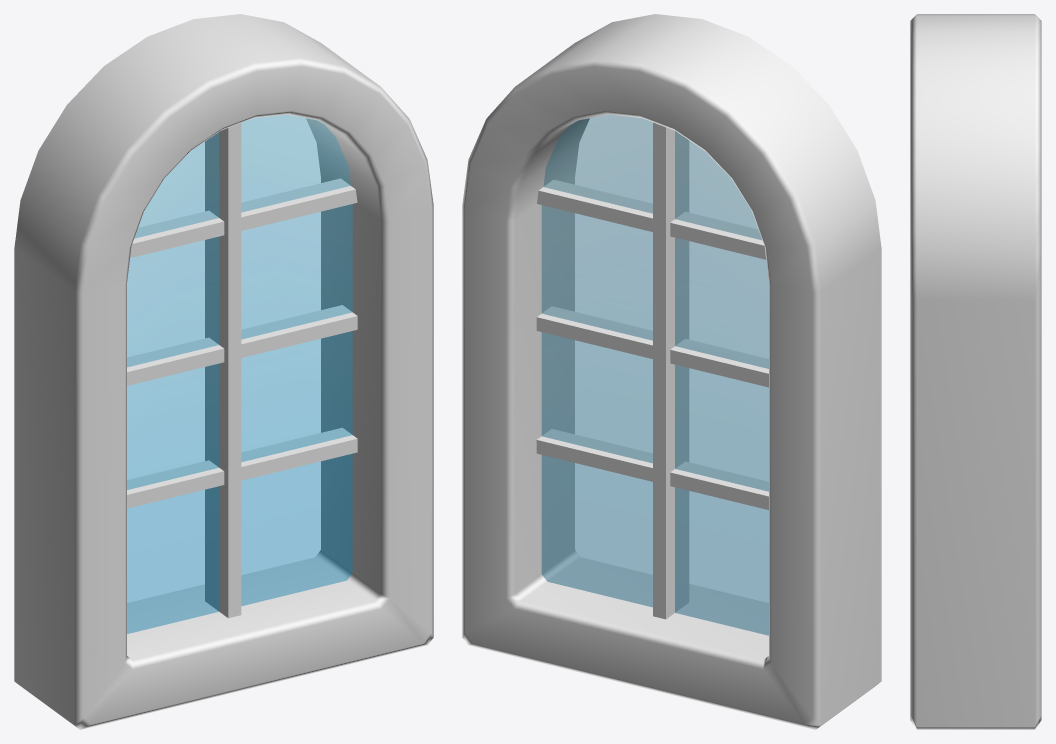
Rendered from Window_White_19.glb.
3 renders of one model, left to right at view 1: azimuth 30°, elevation 25°; view 2: azimuth 150°, elevation 25°; view 3: azimuth 270°, elevation 25°, orthographic.
Parts seen in each view (by area): view 1: Window_White_19; view 2: Window_White_19; view 3: Window_White_19.
Part boxes in pixels (x1,y1,x2,y2): Window_White_19: (14,14,433,729); Window_White_19: (462,14,881,729); Window_White_19: (910,14,1041,729).
Size of the model in its own units: 1.24 by 2.07 by 0.4.
Materials: 2 (2 with a texture image).
